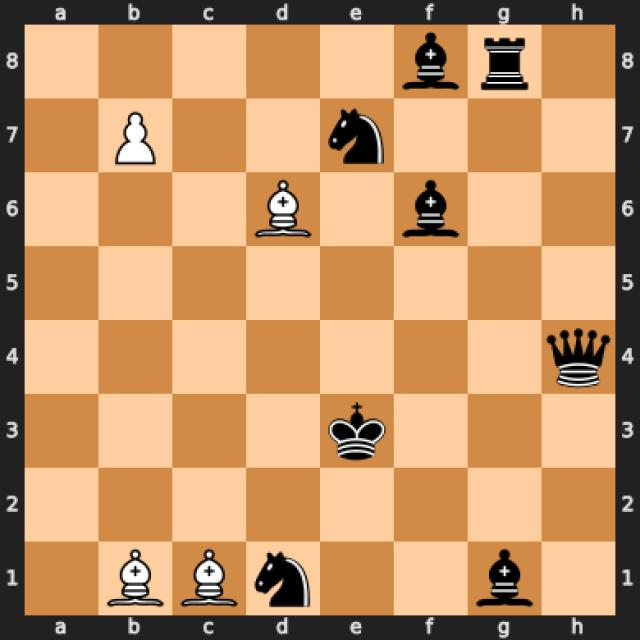Bishop_Black: (398, 30, 464, 94), (474, 544, 537, 607), (399, 180, 462, 237)
King_black: (324, 401, 388, 462)
Knight_black: (328, 102, 387, 168), (252, 549, 316, 608)
Pawn_white: (255, 179, 318, 243), (114, 110, 160, 166)
Queen_black: (546, 322, 614, 390)
Rook_black: (479, 33, 532, 91)
